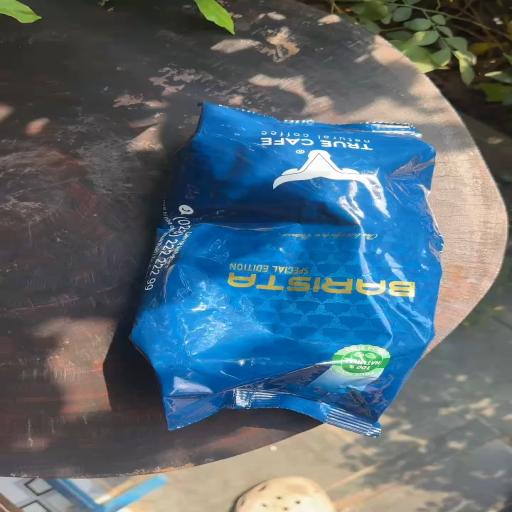cafe_hat: (132, 104, 443, 436)
